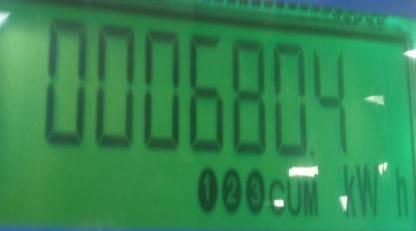.: (341, 160, 411, 229)
0: (308, 149, 318, 159)
1: (41, 14, 90, 142), (95, 22, 139, 147), (139, 27, 182, 152), (271, 42, 309, 159)
5: (310, 45, 349, 158)
7: (185, 31, 227, 158)
9: (227, 37, 269, 157)
